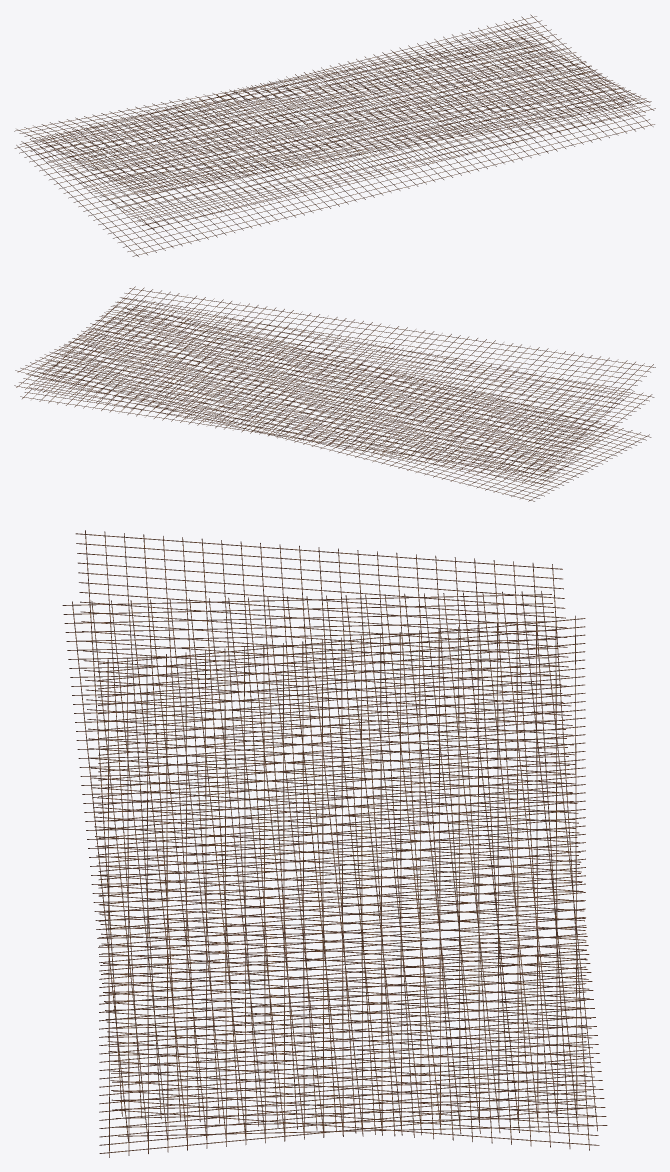
File: EST-TEL-003_anim.glb
3 views of the same model, one above another, from view 1: azimuth 30°, elevation 25°; view 2: azimuth 150°, elevation 25°; view 3: azimuth 270°, elevation 25° (orthographic). The views are drawn at different scales.
Visible parts, largest first — view 1: EST-TEL-003_anim2, EST-TEL-003_anim1, EST-TEL-003_anim0; view 2: EST-TEL-003_anim2, EST-TEL-003_anim1, EST-TEL-003_anim0; view 3: EST-TEL-003_anim2, EST-TEL-003_anim1, EST-TEL-003_anim0.
Part boxes in pixels (<box>): EST-TEL-003_anim2: <box>14,37,651,194</box>; EST-TEL-003_anim1: <box>20,22,655,229</box>; EST-TEL-003_anim0: <box>14,14,654,256</box>; EST-TEL-003_anim2: <box>20,286,655,476</box>; EST-TEL-003_anim1: <box>14,296,654,485</box>; EST-TEL-003_anim0: <box>15,306,651,501</box>; EST-TEL-003_anim2: <box>75,530,599,1150</box>; EST-TEL-003_anim1: <box>62,591,607,1141</box>; EST-TEL-003_anim0: <box>98,615,586,1157</box>.
Size of the model in its own units: 6.13 by 0.7318 by 2.72.
1 material, 1 textured.
